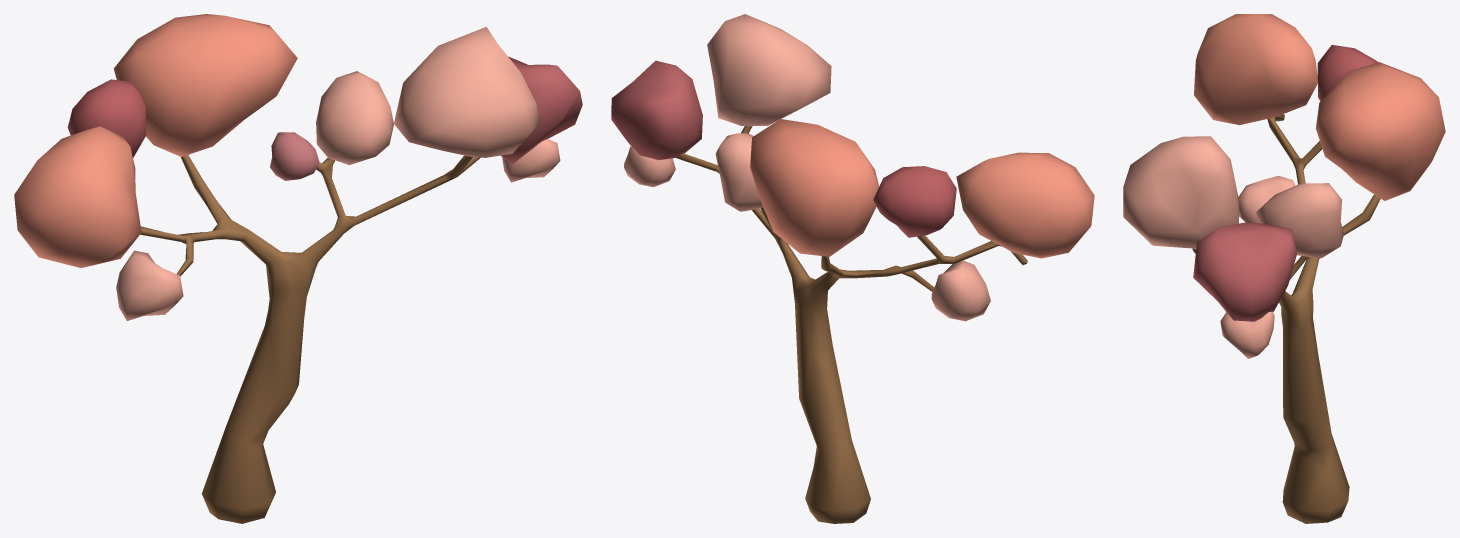
The model's file is Sakura.fbx.
3 views of the same model, side by side, from view 1: azimuth 30°, elevation 25°; view 2: azimuth 150°, elevation 25°; view 3: azimuth 270°, elevation 25° (orthographic). The views are drawn at different scales.
Parts seen in each view (by area): view 1: Sakura; view 2: Sakura; view 3: Sakura.
Boxes of the visible parts, x1,y1,x2,y2 form: Sakura: (14, 14, 582, 523); Sakura: (611, 14, 1094, 523); Sakura: (1123, 14, 1445, 523).
Size of the model in its own units: 3.1 by 2.61 by 1.67.
